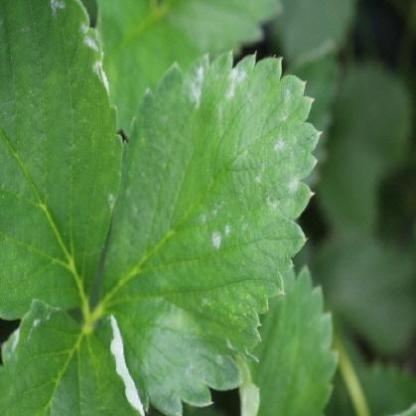Strawberry_Powdery_Mildew_Leaf: (87, 49, 324, 416), (0, 0, 125, 322), (0, 297, 146, 415)
